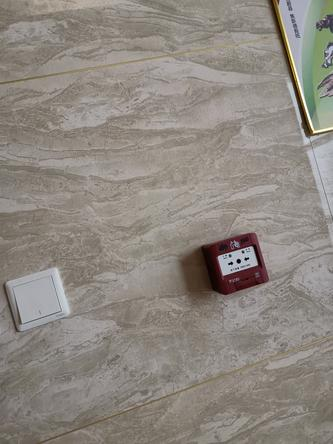switch: (11, 274, 67, 327)
